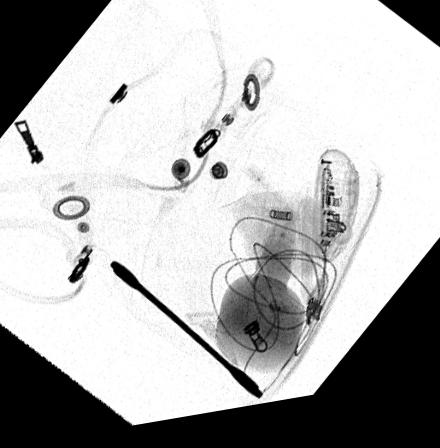Wrench: (109, 262, 263, 407)
